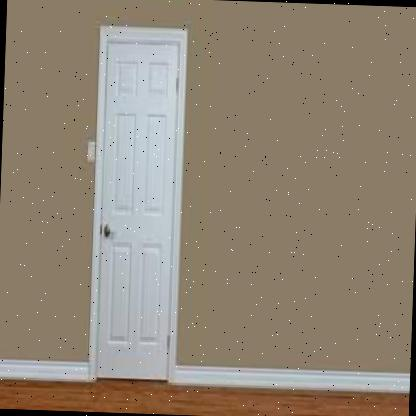door: (78, 17, 186, 390)
